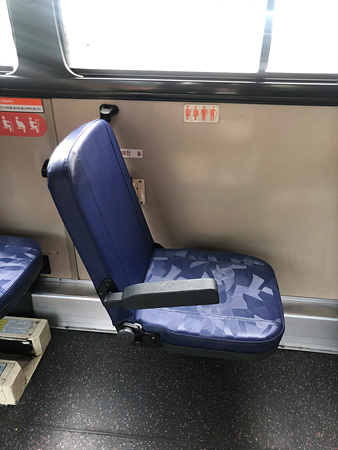seat: (49, 121, 283, 351)
